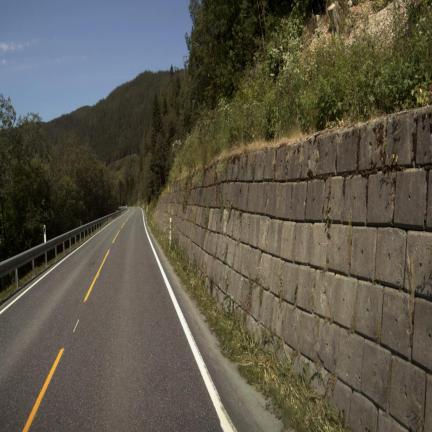Road: (0, 208, 278, 430)
